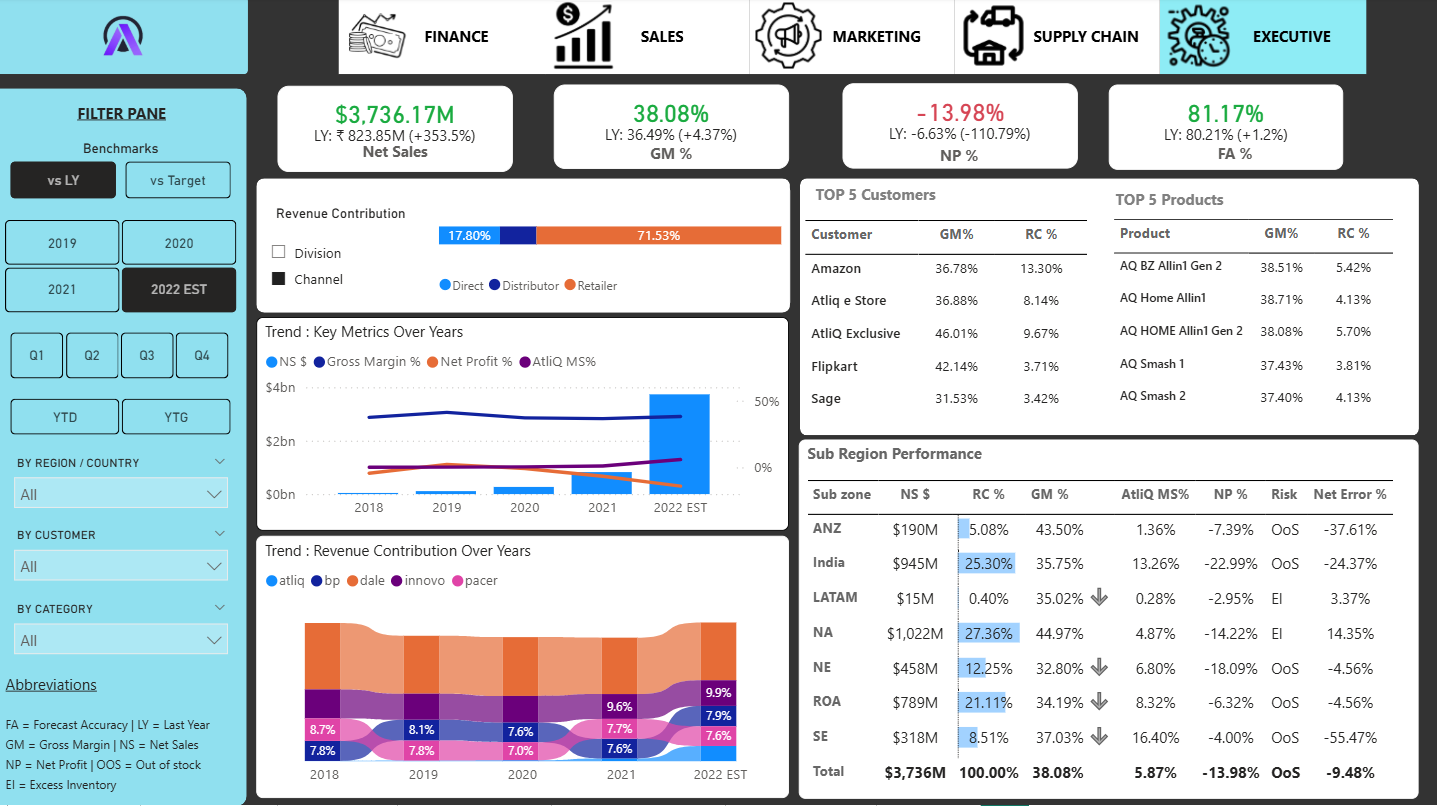

The page's visual inventory and layout, read from the dashboard file:
{"tool":"powerbi","page":{"name":"Executive View","canvas":[1280,720],"ordinal":5},"visuals":[{"type":"shape","box":[0,81,219.6,639.3],"z":0,"group":"g1"},{"type":"shape","box":[227.9,161.6,475.6,119.8],"z":0,"group":"g2"},{"type":"shape","box":[712.8,161.6,551.2,229.1],"z":0},{"type":"shape","box":[0,0,220.9,68.7],"z":1000},{"type":"advancedSlicerVisual","fields":{"Values":["fiscal_year.fy_desc"]},"box":[5,192.9,206,92.2],"z":1000,"group":"g1"},{"type":"actionButton","box":[301.2,0,183.7,68.6],"z":2000},{"type":"advancedSlicerVisual","fields":{"Values":["dim_date.fiscal_quarter"]},"box":[5,293.1,206,51.1],"z":2000,"group":"g1"},{"type":"actionButton","box":[484.9,0,182.6,68.6],"z":3000},{"type":"advancedSlicerVisual","fields":{"Values":["dim_date.ytd_ytg"]},"box":[4.9,352.1,206.1,42.4],"z":3000,"group":"g1"},{"type":"actionButton","box":[667.4,0,182.6,68.6],"z":4000},{"type":"textbox","box":[0,597.9,219.6,122.1],"z":4000,"group":"g1"},{"type":"actionButton","box":[850,0,182.6,68.6],"z":5000},{"type":"slicer","fields":{"Values":["dim_market.region","dim_market.market"]},"box":[2.5,402.5,211,57.3],"z":5000,"group":"g1"},{"type":"actionButton","box":[1032.6,0,183.7,68.6],"z":6000},{"type":"slicer","fields":{"Values":["dim_customer.customer"]},"box":[2.5,467.8,211,56.9],"z":6000,"group":"g1"},{"type":"image","box":[0,0,219.6,68.7],"z":7000},{"type":"slicer","fields":{"Values":["dim_product.category"]},"box":[2.5,532.6,211,57.3],"z":7000,"group":"g1"},{"type":"kpi","fields":{"Indicator":["Measures_table.NS $"],"TrendLine":["dim_date.fiscal_year"],"Goal":["Measures_table.NS LY $"]},"box":[247.7,79.1,209.3,76.7],"z":8000},{"type":"textbox","box":[42.9,88.5,130.1,31.2],"z":8000,"group":"g1"},{"type":"textbox","box":[292,123.9,120.2,30.7],"z":9000},{"type":"advancedSlicerVisual","fields":{"Values":["Select Benchmark.Benchmarks"]},"box":[4.9,127.6,206.1,57.3],"z":9000,"group":"g1"},{"type":"kpi","fields":{"TrendLine":["dim_date.fiscal_year"],"Goal":["Measures_table.GM % LY"],"Indicator":["Measures_table.Gross Margin %"]},"box":[493,77.9,209.3,75.6],"z":10000},{"type":"textbox","box":[537.4,125.2,120.2,30.7],"z":11000},{"type":"kpi","fields":{"Indicator":["Measures_table.Net Profit %"],"TrendLine":["dim_date.fiscal_year"],"Goal":["Measures_table.NP % LY"]},"box":[750,76.5,209.3,76],"z":12000},{"type":"textbox","box":[794.2,126.5,120.9,27.9],"z":13000},{"type":"kpi","fields":{"Indicator":["Measures_table.Forecast Accuracy %"],"TrendLine":["dim_date.fiscal_year"],"Goal":["Measures_table.forecast accuracy % LY"]},"box":[987.2,77.7,209,76],"z":14000},{"type":"textbox","box":[1044.2,124.2,111.6,30.2],"z":15000},{"type":"group","id":"g1","title":"Group 1","box":[0,81,219.6,639.3],"z":16000},{"type":"slicer","fields":{"Values":["Revenue Contribution.Revenue Contribution"]},"box":[229.3,211.1,149.7,59.3],"z":17000,"group":"g2"},{"type":"pivotTable","title":"Sub Region Performance","fields":{"Rows":["Sub_zone.sub_zone"],"Values":["Measures_table.NS $","Measures_table.RC %","Measures_table.Gross Margin %","Measures_table.AtliQ MS%","Measures_table.Net Profit %","Measures_table.Risk","Measures_table.Net Error %"]},"box":[711.6,394.2,552.3,319.8],"z":17000},{"type":"hundredPercentStackedBarChart","fields":{"Series":["dim_customer.channel"],"Y":["Measures_table.NS $"]},"box":[382.7,166.7,320.9,110.5],"z":18000,"group":"g2"},{"type":"pivotTable","fields":{"Rows":["dim_customer.customer"],"Values":["Measures_table.Gross Margin %","Measures_table.RC %"]},"box":[712.8,194.2,274.4,196.5],"z":18000},{"type":"card","fields":{"Values":["Measures_table.Revenue Contribution Title"]},"box":[228.1,171.1,150.9,45.1],"z":19000,"group":"g2"},{"type":"pivotTable","fields":{"Values":["Measures_table.Gross Margin %","Measures_table.RC %"],"Rows":["dim_product.product"]},"box":[987.2,193,275.6,195.3],"z":19000},{"type":"lineClusteredColumnComboChart","title":"Trend : Key Metrics Over Years","fields":{"Category":["fiscal_year.fy_desc"],"Y":["Measures_table.NS $"],"Y2":["Measures_table.Gross Margin %","Measures_table.Net Profit %","Measures_table.AtliQ MS%"]},"box":[227.9,284.9,474.4,190.7],"z":20000},{"type":"ribbonChart","title":"Trend : Revenue Contribution Over Years","fields":{"Category":["fiscal_year.fy_desc"],"Y":["Measures_table.Market Share%"],"Series":["marketshare.Attribute"]},"box":[227.9,480.2,474.4,233.7],"z":21000},{"type":"group","id":"g2","title":"Group 2","box":[227.9,161.6,475.7,119.8],"z":22000},{"type":"textbox","box":[720.9,161.6,168.6,32.6],"z":23000},{"type":"textbox","box":[988.4,166.3,168.6,32.6],"z":24000}]}

Visuals, with their boxes in screenshot pixels (x1, y1, x2, y2), scaled from the page's 1280x720 canvas onto the 1437x806 screenshot:
shape: [left=0, top=91, right=247, bottom=805]
shape: [left=256, top=181, right=790, bottom=315]
shape: [left=800, top=181, right=1419, bottom=437]
shape: [left=0, top=0, right=248, bottom=77]
advancedSlicerVisual - fiscal_year.fy_desc: [left=6, top=216, right=237, bottom=319]
actionButton: [left=338, top=0, right=544, bottom=77]
advancedSlicerVisual - dim_date.fiscal_quarter: [left=6, top=328, right=237, bottom=385]
actionButton: [left=544, top=0, right=749, bottom=77]
advancedSlicerVisual - dim_date.ytd_ytg: [left=6, top=394, right=237, bottom=442]
actionButton: [left=749, top=0, right=954, bottom=77]
textbox: [left=0, top=669, right=247, bottom=805]
actionButton: [left=954, top=0, right=1159, bottom=77]
slicer - dim_market.region x dim_market.market: [left=3, top=451, right=240, bottom=515]
actionButton: [left=1159, top=0, right=1365, bottom=77]
slicer - dim_customer.customer: [left=3, top=524, right=240, bottom=587]
image: [left=0, top=0, right=247, bottom=77]
slicer - dim_product.category: [left=3, top=596, right=240, bottom=660]
kpi - Measures_table.NS $ x dim_date.fiscal_year: [left=278, top=89, right=513, bottom=174]
textbox: [left=48, top=99, right=194, bottom=134]
textbox: [left=328, top=139, right=463, bottom=173]
advancedSlicerVisual - Select Benchmark.Benchmarks: [left=6, top=143, right=237, bottom=207]
kpi - dim_date.fiscal_year x Measures_table.GM % LY: [left=553, top=87, right=788, bottom=172]
textbox: [left=603, top=140, right=738, bottom=175]
kpi - Measures_table.Net Profit % x dim_date.fiscal_year: [left=842, top=86, right=1077, bottom=171]
textbox: [left=892, top=142, right=1027, bottom=173]
kpi - Measures_table.Forecast Accuracy % x dim_date.fiscal_year: [left=1108, top=87, right=1343, bottom=172]
textbox: [left=1172, top=139, right=1298, bottom=173]
"Group 1" group: [left=0, top=91, right=247, bottom=805]
slicer - Revenue Contribution.Revenue Contribution: [left=257, top=236, right=425, bottom=303]
"Sub Region Performance" pivotTable: [left=799, top=441, right=1419, bottom=799]
hundredPercentStackedBarChart - dim_customer.channel x Measures_table.NS $: [left=430, top=187, right=790, bottom=310]
pivotTable - dim_customer.customer x Measures_table.Gross Margin %: [left=800, top=217, right=1108, bottom=437]
card - Measures_table.Revenue Contribution Title: [left=256, top=192, right=425, bottom=242]
pivotTable - Measures_table.Gross Margin % x Measures_table.RC %: [left=1108, top=216, right=1418, bottom=435]
"Trend : Key Metrics Over Years" lineClusteredColumnComboChart: [left=256, top=319, right=788, bottom=532]
"Trend : Revenue Contribution Over Years" ribbonChart: [left=256, top=538, right=788, bottom=799]
"Group 2" group: [left=256, top=181, right=790, bottom=315]
textbox: [left=809, top=181, right=999, bottom=217]
textbox: [left=1110, top=186, right=1299, bottom=223]
